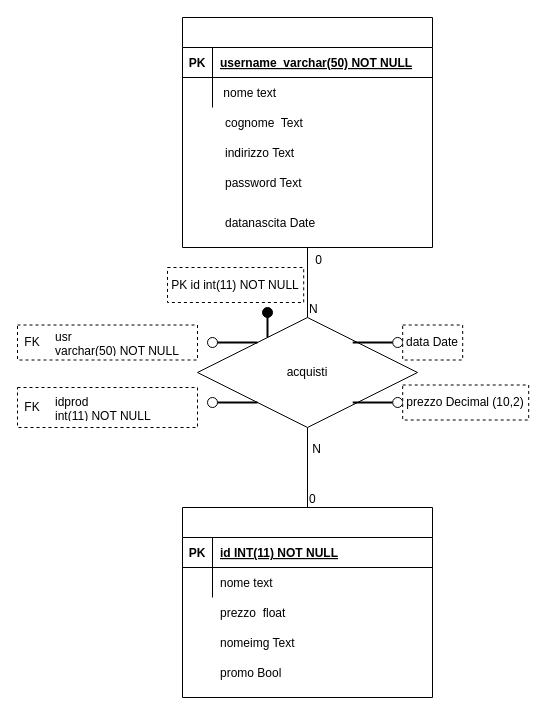
Some shapes in this 547 by 715 pixel diagram are drawn without their labels. The shapes that lost their labels are listed below. From the top down, each one's box as (x1, y1, x2, y2) in pixels, then its label:
(182, 16, 432, 248): utenti
(182, 506, 432, 698): prodotti
